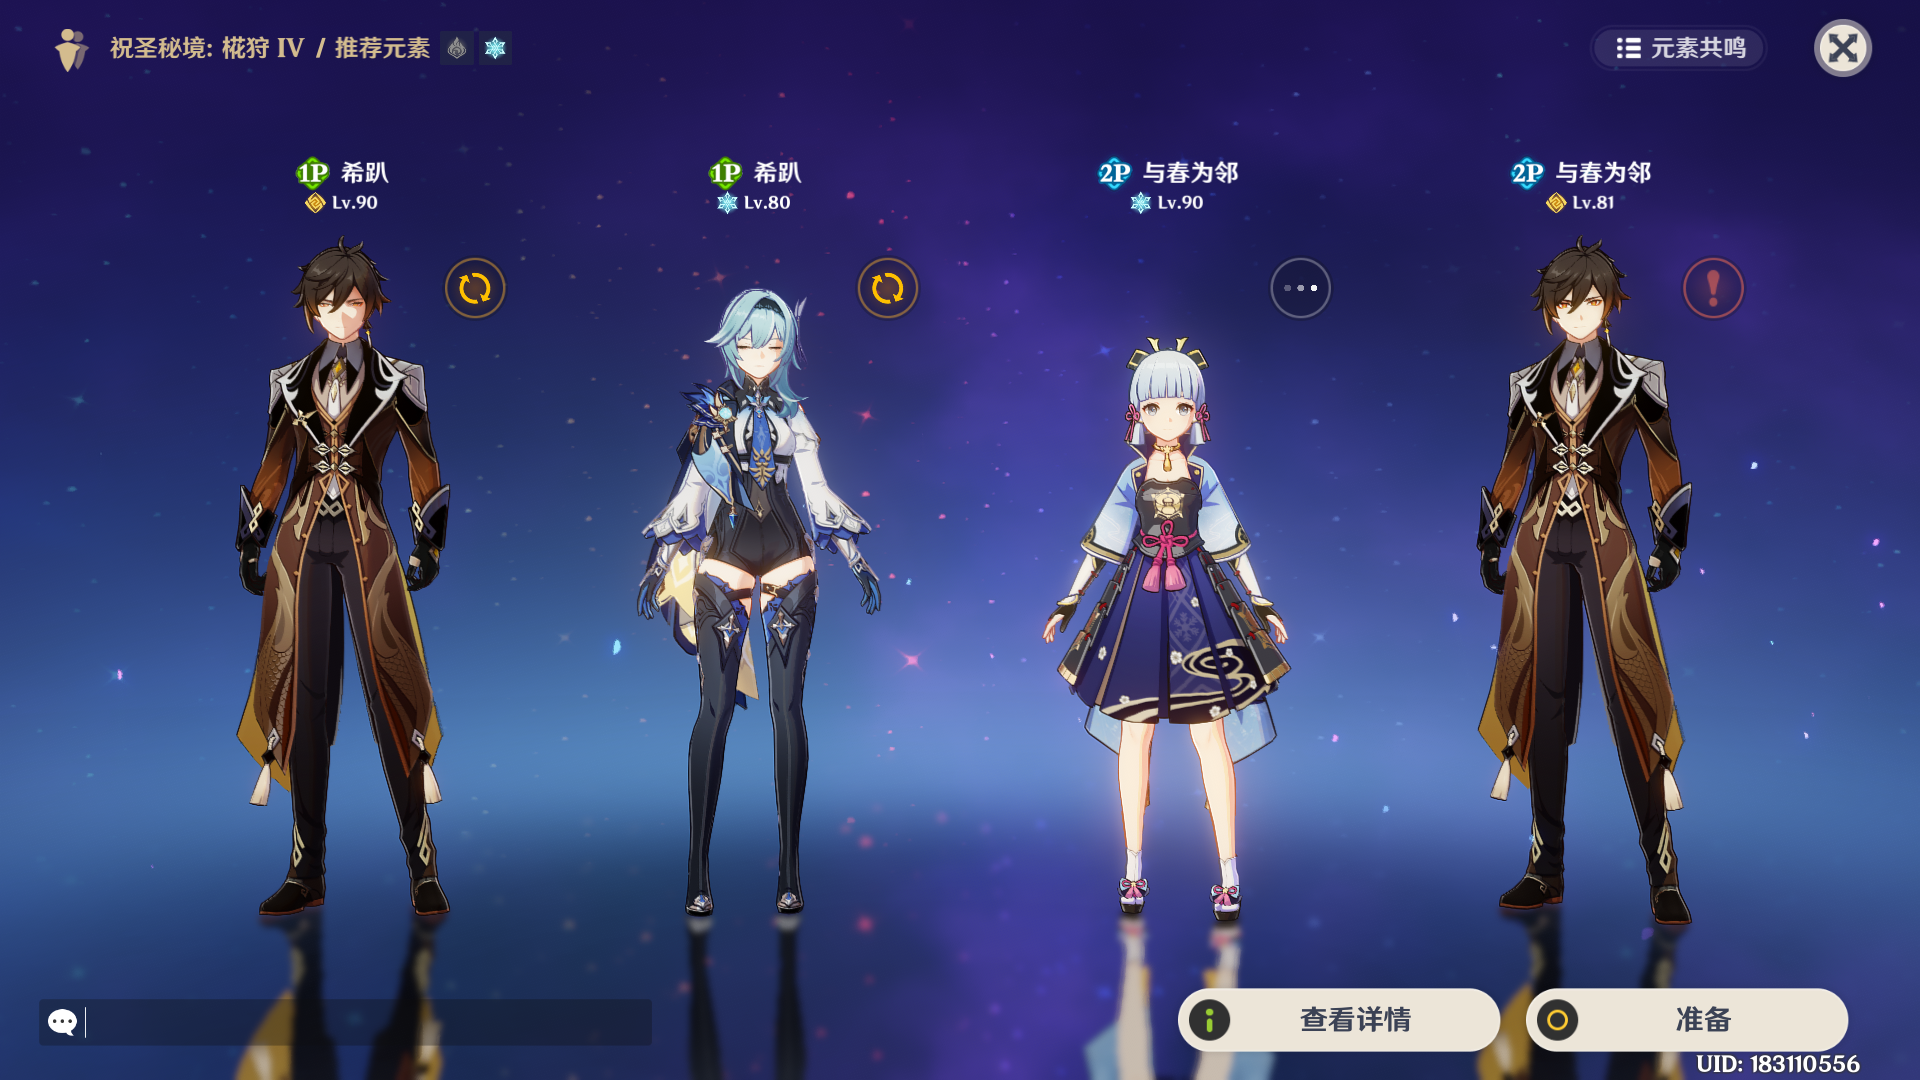character: (1416, 223, 1784, 934), (170, 237, 509, 938), (595, 262, 868, 959), (1004, 307, 1298, 952)
